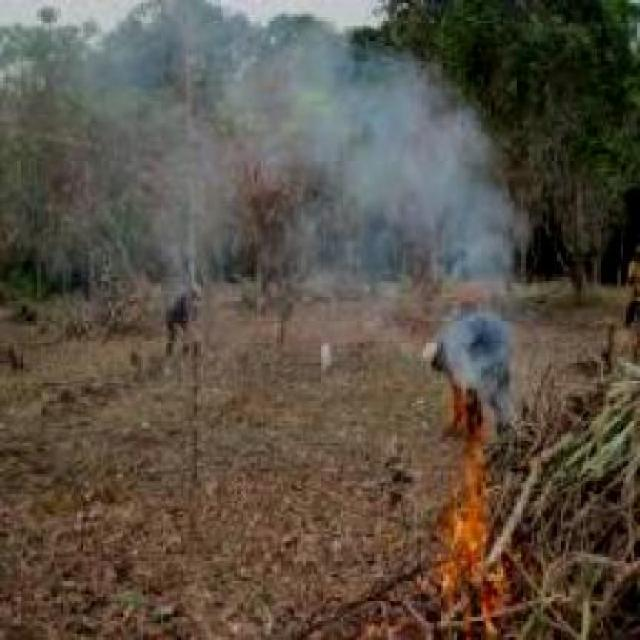Fire: (438, 398, 496, 628)
Smoke: (0, 0, 531, 345)
